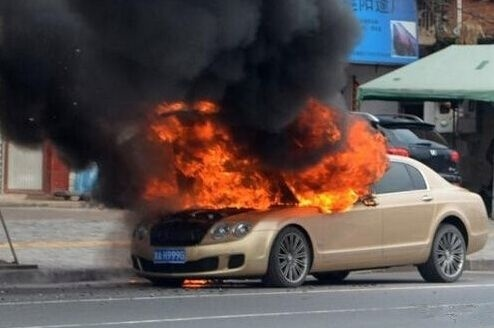fire: (142, 96, 392, 216)
